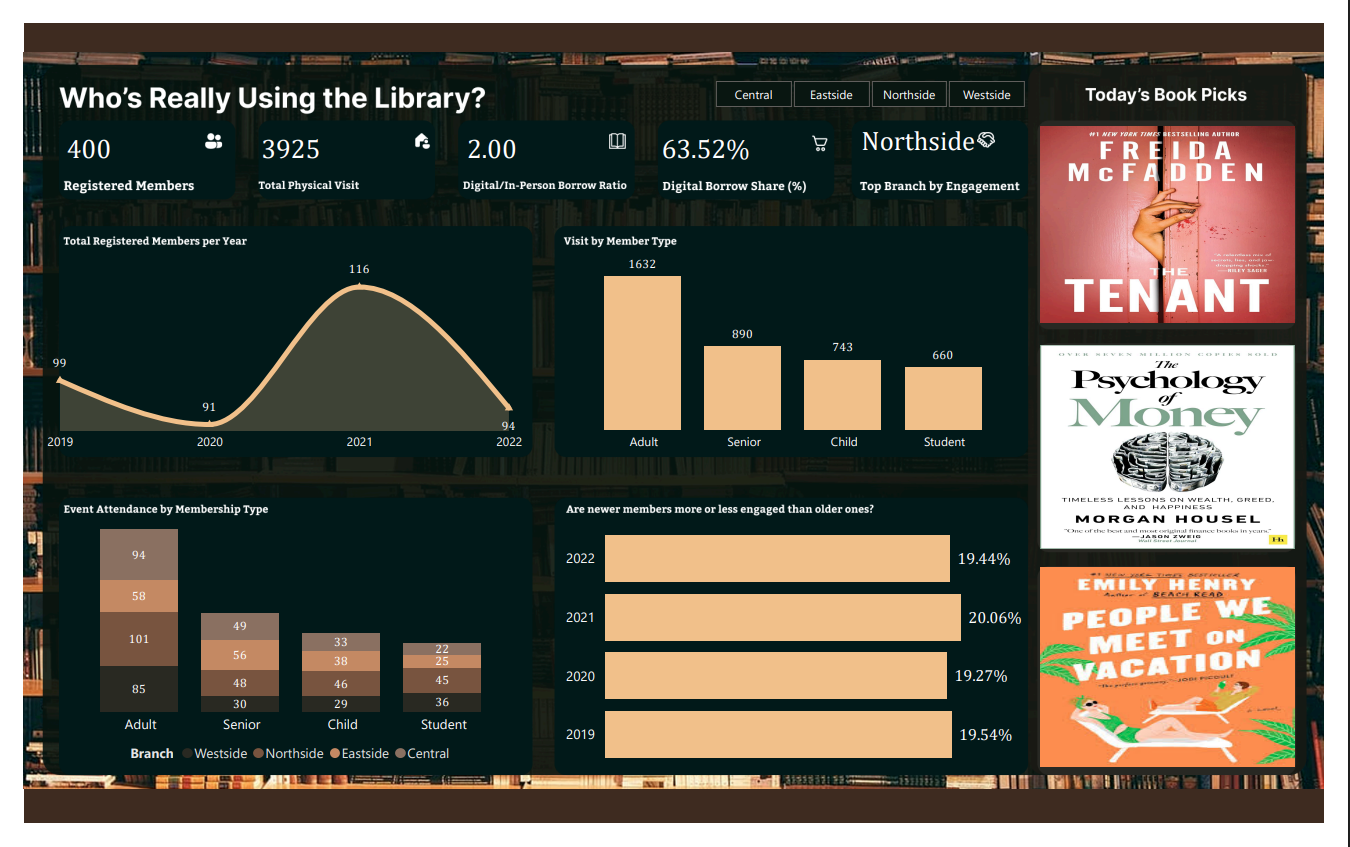

The page's visual inventory and layout, read from the dashboard file:
{"tool":"powerbi","page":{"name":"Page 1","canvas":[1300,800],"ordinal":0},"visuals":[{"type":"card","fields":{"Values":["Count(clean_library_members.Member_ID)"]},"box":[28,107,74,38],"z":0},{"type":"card","fields":{"Values":["Sum(clean_library_members.Total_Visits)"]},"box":[230,107,74,38],"z":1000},{"type":"card","fields":{"Values":["clean_library_members.DigitalToInPersonRatio"]},"box":[431,107,74,38],"z":2000},{"type":"card","fields":{"Values":["clean_library_members.DigitalBorrowSharePercent"]},"box":[629.8,106.4,104.3,38.3],"z":3000},{"type":"card","fields":{"Values":["clean_library_members.TopBranchByEngagement"]},"box":[820,91.2,148.8,53.8],"z":4000},{"type":"areaChart","fields":{"Category":["clean_library_members.Membership_Start.Variation.Date Hierarchy.Year","clean_library_members.Membership_Start.Variation.Date Hierarchy.Month"],"Y":["CountNonNull(clean_library_members.Member_ID)"]},"box":[18.3,228.2,484.5,208.5],"z":5000},{"type":"columnChart","fields":{"Y":["Sum(clean_library_members.Event_Attendance)"],"Category":["clean_library_members.Membership_Type"],"Series":["clean_library_members.Branch"]},"box":[31,486,475,263],"z":6000},{"type":"clusteredColumnChart","fields":{"Y":["Sum(clean_library_members.Total_Visits)"],"Category":["clean_library_members.Membership_Type"]},"box":[535,216,471,221],"z":7000},{"type":"clusteredBarChart","fields":{"Category":["clean_library_members.Membership_Start.Variation.Date Hierarchy.Year"],"Y":["clean_library_members.EngagementScore"]},"box":[535,498,471,251],"z":8000},{"type":"image","box":[1012,317,264,214],"z":9000},{"type":"image","box":[1012,539,264,210],"z":10000},{"type":"image","box":[1012,98,264,207],"z":11000},{"type":"slicer","fields":{"Values":["clean_library_members.Branch"]},"box":[666,51,359,40],"z":11001}]}

Visuals, with their boxes in screenshot pixels (x1, y1, x2, y2), scaled from the page's 1300x800 canvas onto the 1350x847 screenshot:
card - Count(clean_library_members.Member_ID): 29, 113, 106, 154
card - Sum(clean_library_members.Total_Visits): 239, 113, 316, 154
card - clean_library_members.DigitalToInPersonRatio: 448, 113, 524, 154
card - clean_library_members.DigitalBorrowSharePercent: 654, 113, 762, 153
card - clean_library_members.TopBranchByEngagement: 852, 97, 1006, 154
areaChart - clean_library_members.Membership_Start.Variation.Date Hierarchy.Year x clean_library_members.Membership_Start.Variation.Date Hierarchy.Month: 19, 242, 522, 462
columnChart - Sum(clean_library_members.Event_Attendance) x clean_library_members.Membership_Type: 32, 515, 525, 793
clusteredColumnChart - Sum(clean_library_members.Total_Visits) x clean_library_members.Membership_Type: 556, 229, 1045, 463
clusteredBarChart - clean_library_members.Membership_Start.Variation.Date Hierarchy.Year x clean_library_members.EngagementScore: 556, 527, 1045, 793
image: 1051, 336, 1325, 562
image: 1051, 571, 1325, 793
image: 1051, 104, 1325, 323
slicer - clean_library_members.Branch: 692, 54, 1064, 96
